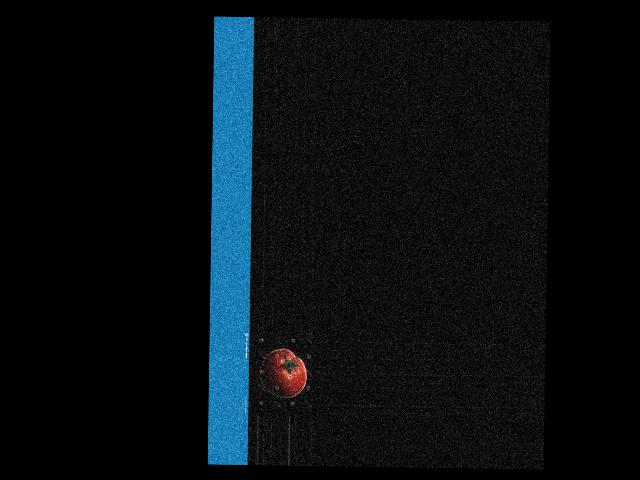tomato: (259, 348, 307, 398)
